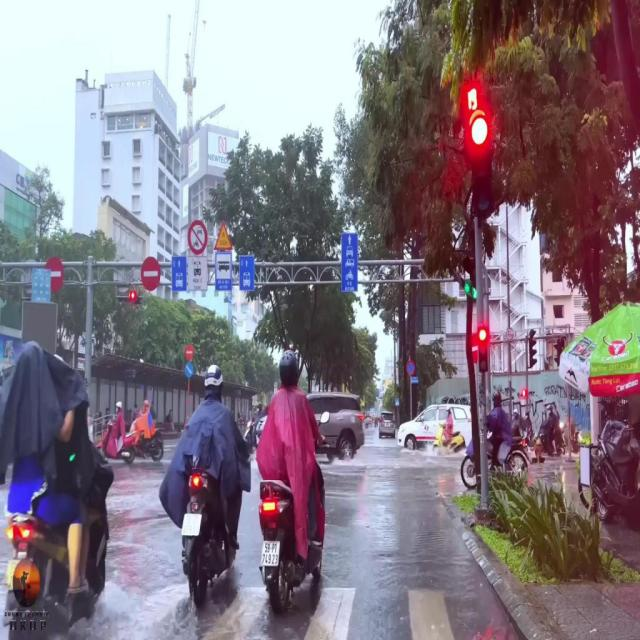cam_do_xe: (406, 359, 416, 377)
cam_xe_di_nguoc_chieu: (140, 255, 162, 292), (44, 257, 64, 293), (186, 344, 195, 359)
di_cham: (213, 219, 234, 251)
huong_phai_di_vuot_chuong_ngai_vat_phai: (185, 361, 194, 377)
khac: (342, 231, 358, 293), (188, 219, 209, 255), (215, 250, 232, 294), (188, 256, 208, 291), (239, 256, 254, 293), (172, 255, 187, 292)
